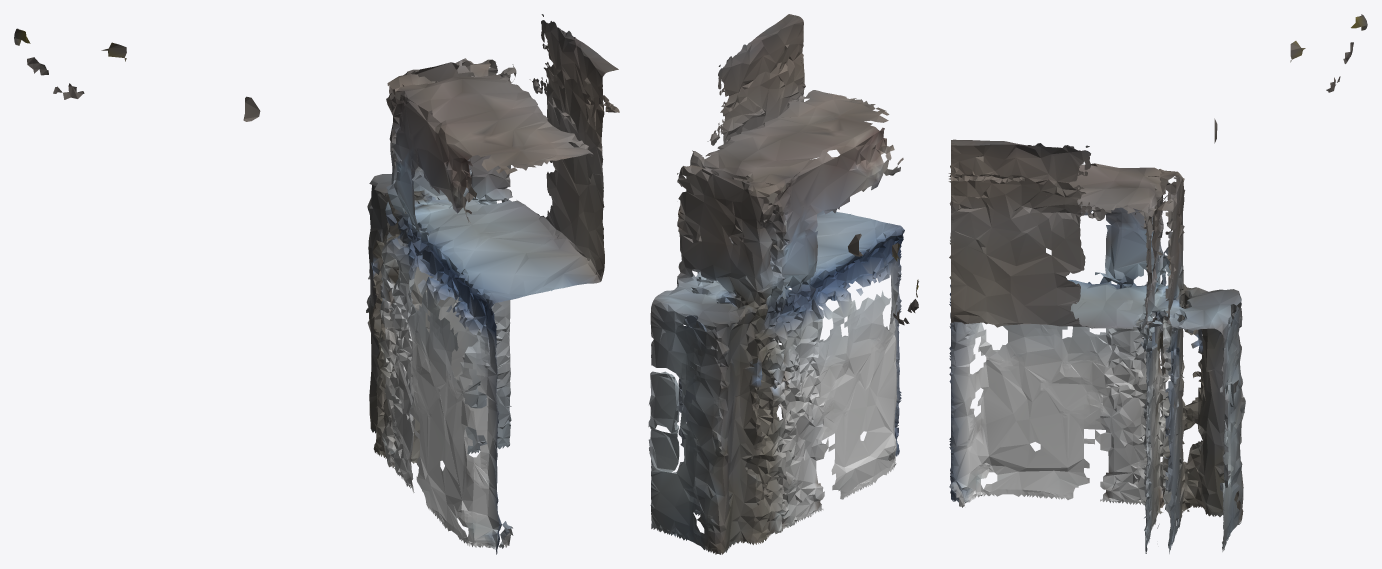
Rendered from coarse.glb.
3 renders of one model, left to right at view 1: azimuth 30°, elevation 25°; view 2: azimuth 150°, elevation 25°; view 3: azimuth 270°, elevation 25°, orthographic. The views are drawn at different scales.
Size of the model in its own units: 1.26 by 1.48 by 1.37.
